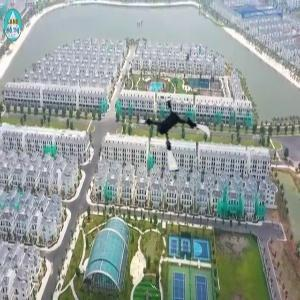drone: (139, 99, 213, 173)
